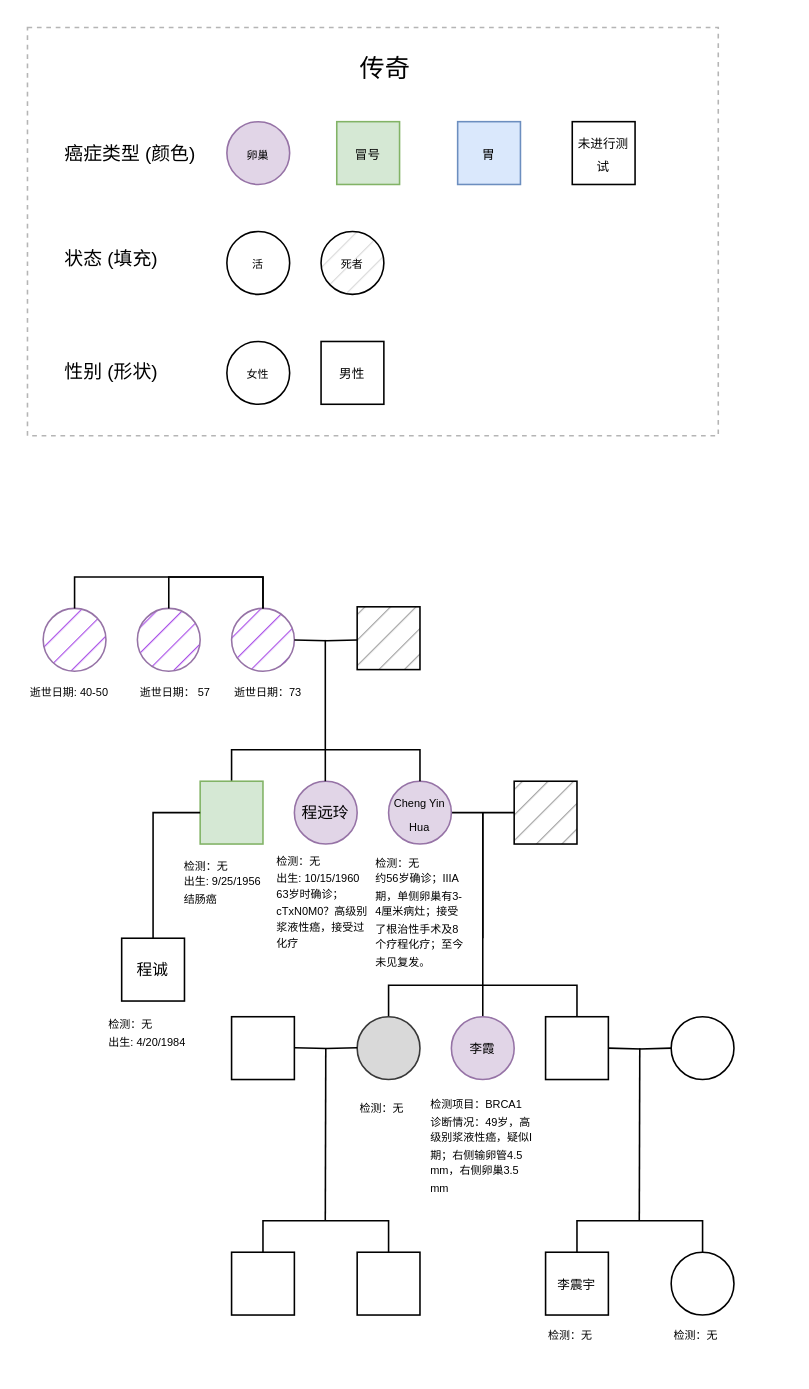
Some shapes in this 809 by 1389 pixel diagram are drawn without their labels. Here are the shapes that lost their labels. From the top down, the box of each, then its label:
(199, 780, 263, 844): 程远彬
(356, 1015, 420, 1080): 李莉
(670, 1251, 734, 1315): 李祯霓
